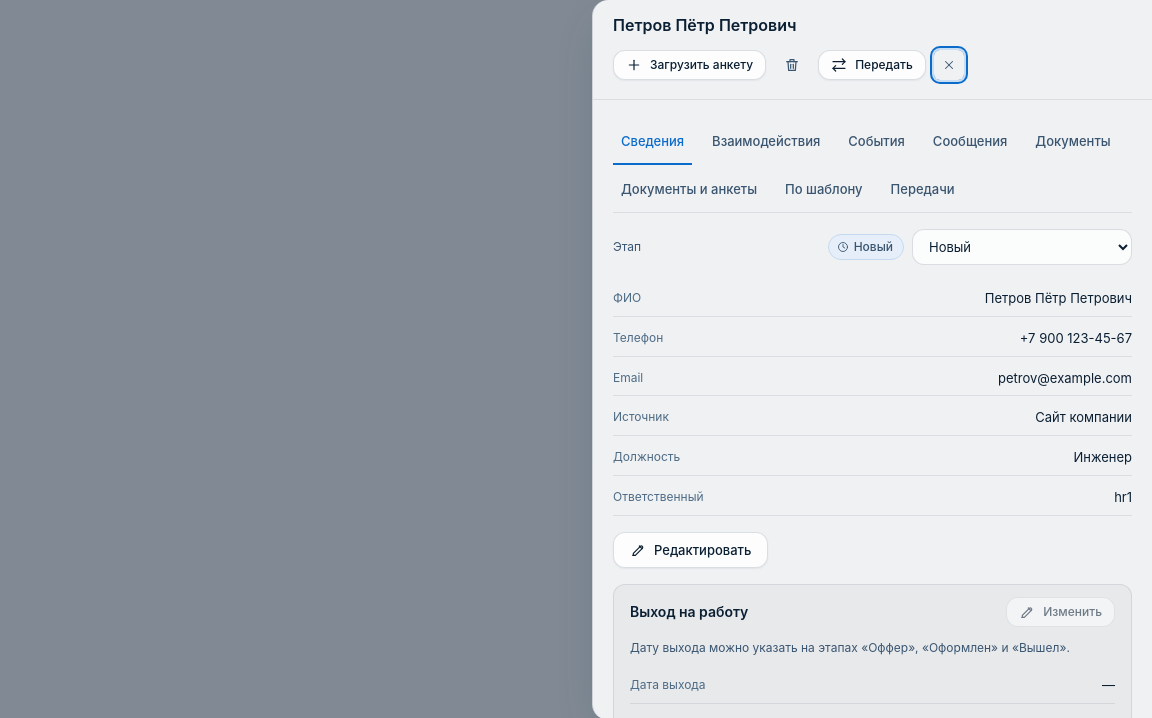
Test: CandidateDrawer › loads the interaction history and appends a new entry without reload
This screenshot has width=1152, height=718.
Click the tab "Взаимодействия".
click(766, 143)  # box [704,120,828,165]
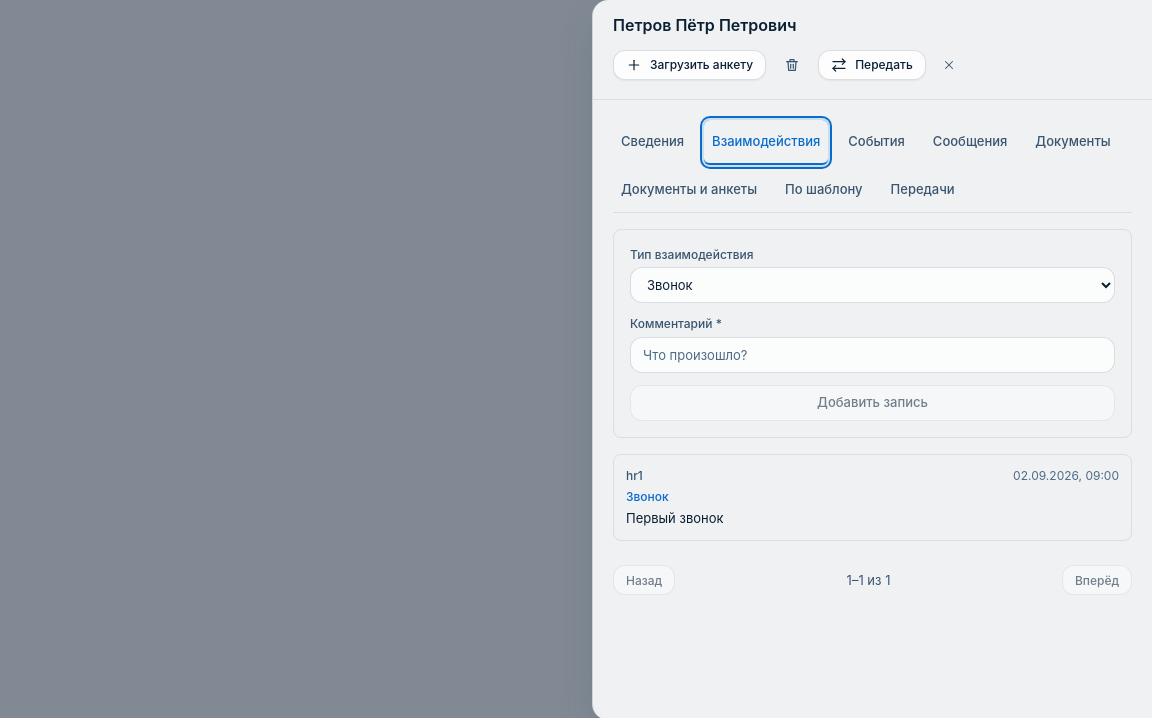
Check: the text "Первый звонок" is shown, box [626,510,724,526]
Select "Заметка" in the dropdown labelled "Тип взаимодействия" at coordinates (872, 285), box [630,267,1115,303]
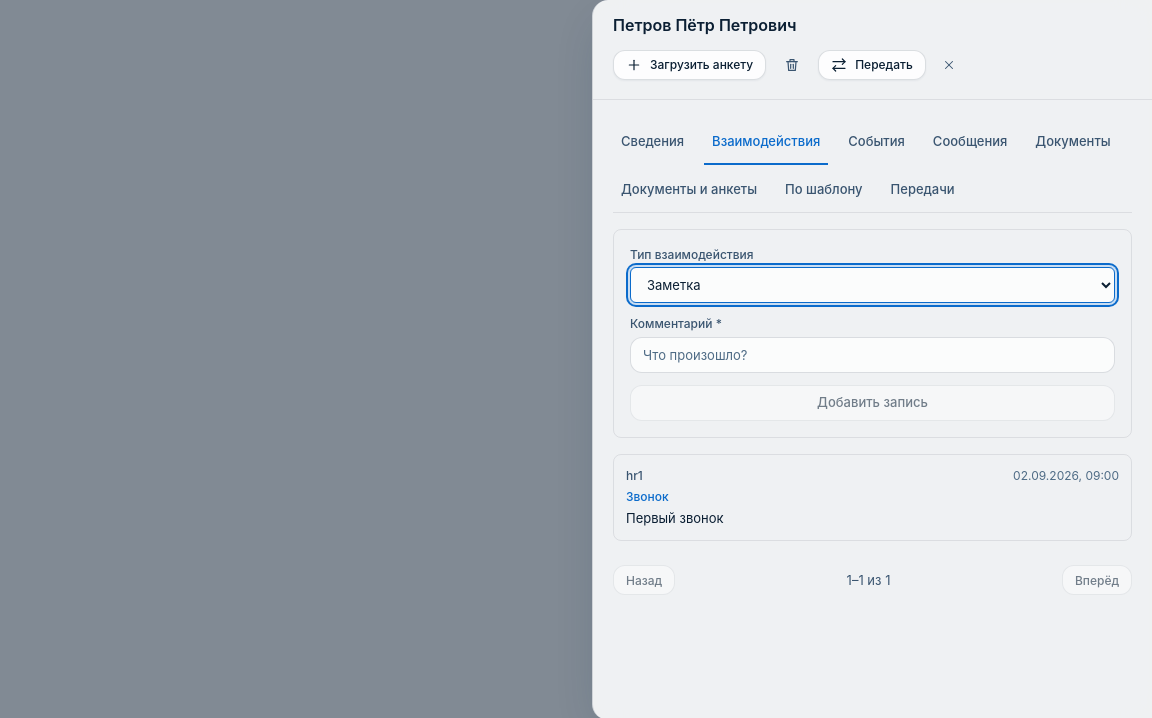
Type "Новая заметка" into the field labelled "Комментарий *".
click(872, 355); type("Новая заметка")  # box [630,337,1115,373]
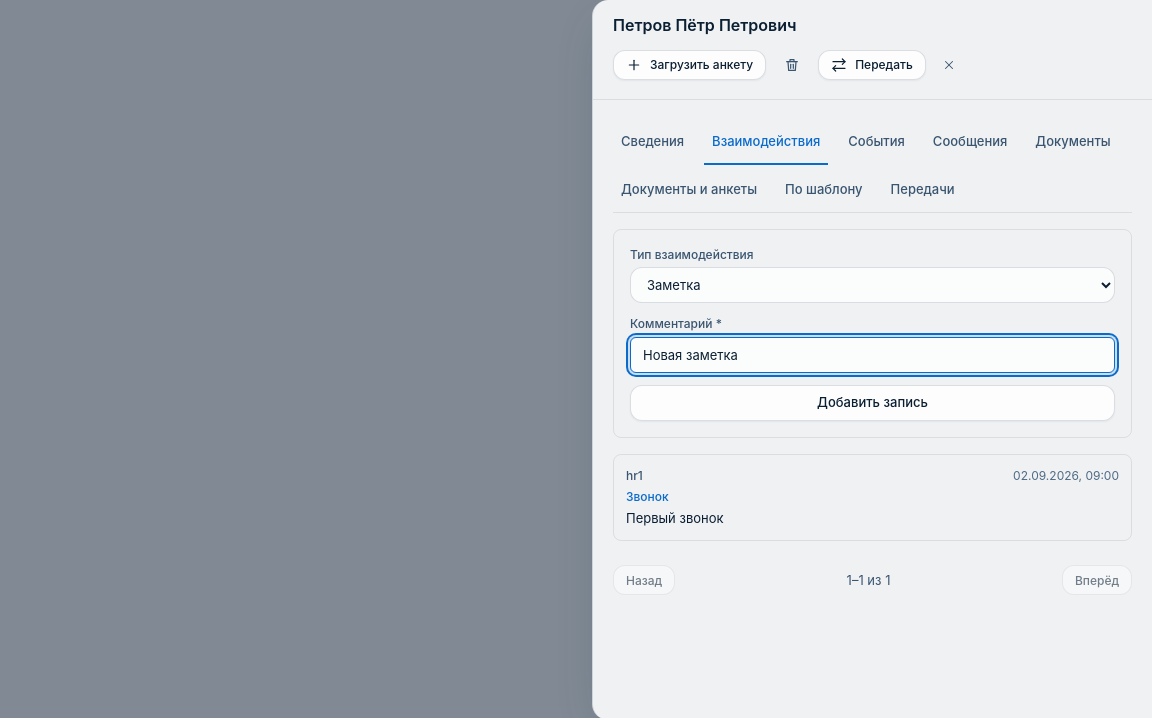
Click the button "Добавить запись".
click(872, 403)  # box [630,385,1115,421]
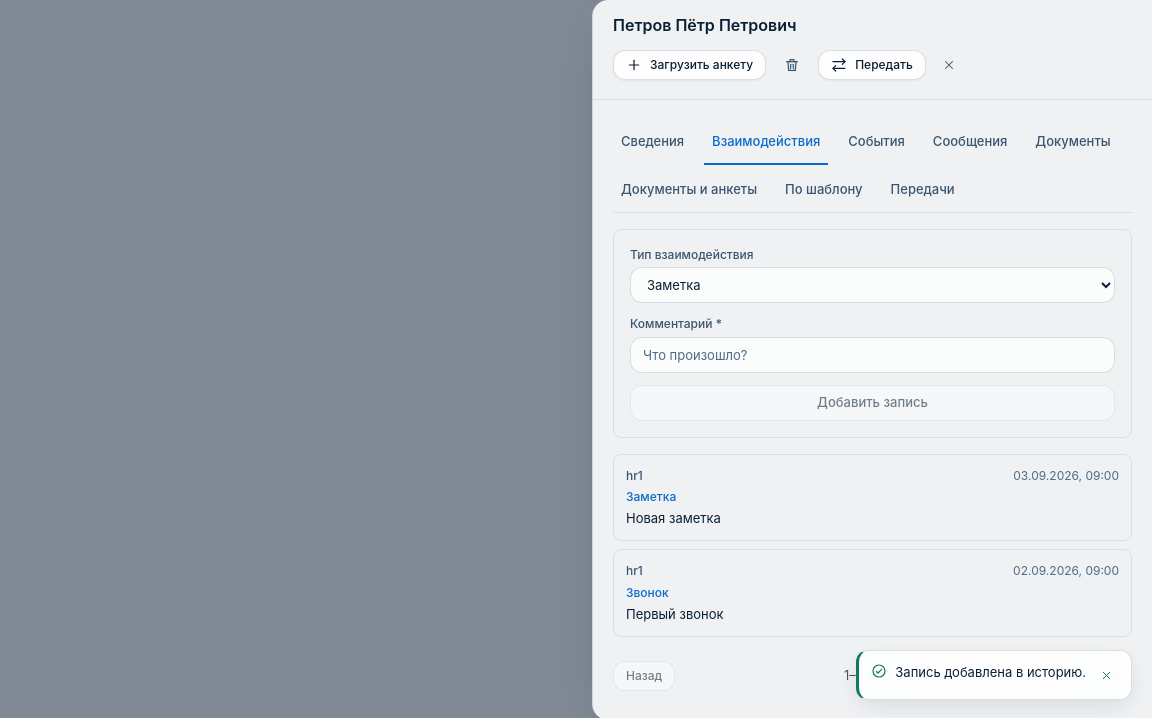
Check: the text "Новая заметка" is shown, box [626,510,721,526]
